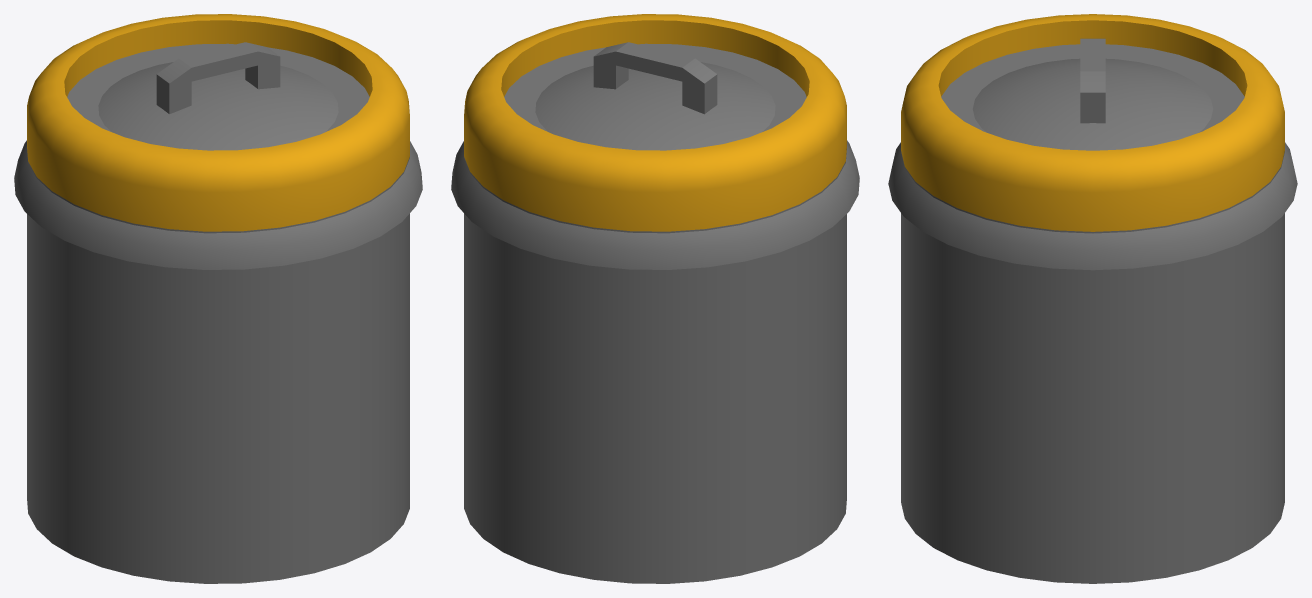
The model's file is couvercle2.fbx.
3 views of the same model, side by side, from view 1: azimuth 30°, elevation 25°; view 2: azimuth 150°, elevation 25°; view 3: azimuth 270°, elevation 25° (orthographic).
Visible parts, largest first — view 1: poubelle, couvercle; view 2: poubelle, couvercle; view 3: poubelle, couvercle.
Boxes of the visible parts, x1,y1,x2,y2 form: poubelle: (27,14,409,583); couvercle: (14,42,422,269); poubelle: (464,14,846,583); couvercle: (451,42,859,269); poubelle: (901,14,1284,583); couvercle: (888,38,1297,270).
Size of the model in its own units: 160 by 193 by 160.
